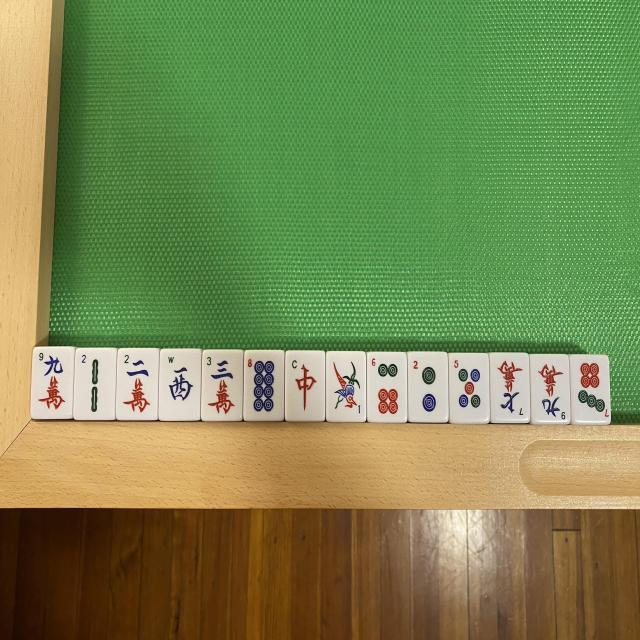hdr: (284, 354, 324, 422)
hww: (159, 352, 200, 423)
sb1: (327, 354, 367, 422)
sb2: (75, 348, 115, 418)
sc2: (118, 348, 158, 419)
sc3: (202, 352, 242, 422)
sc7: (489, 352, 528, 423)
sc9: (32, 349, 72, 422), (530, 356, 570, 424)
sd2: (408, 354, 448, 422)
sd5: (448, 354, 488, 424)
sd6: (366, 352, 405, 419)
sd7: (573, 356, 610, 424)
sd8: (247, 352, 286, 421)
